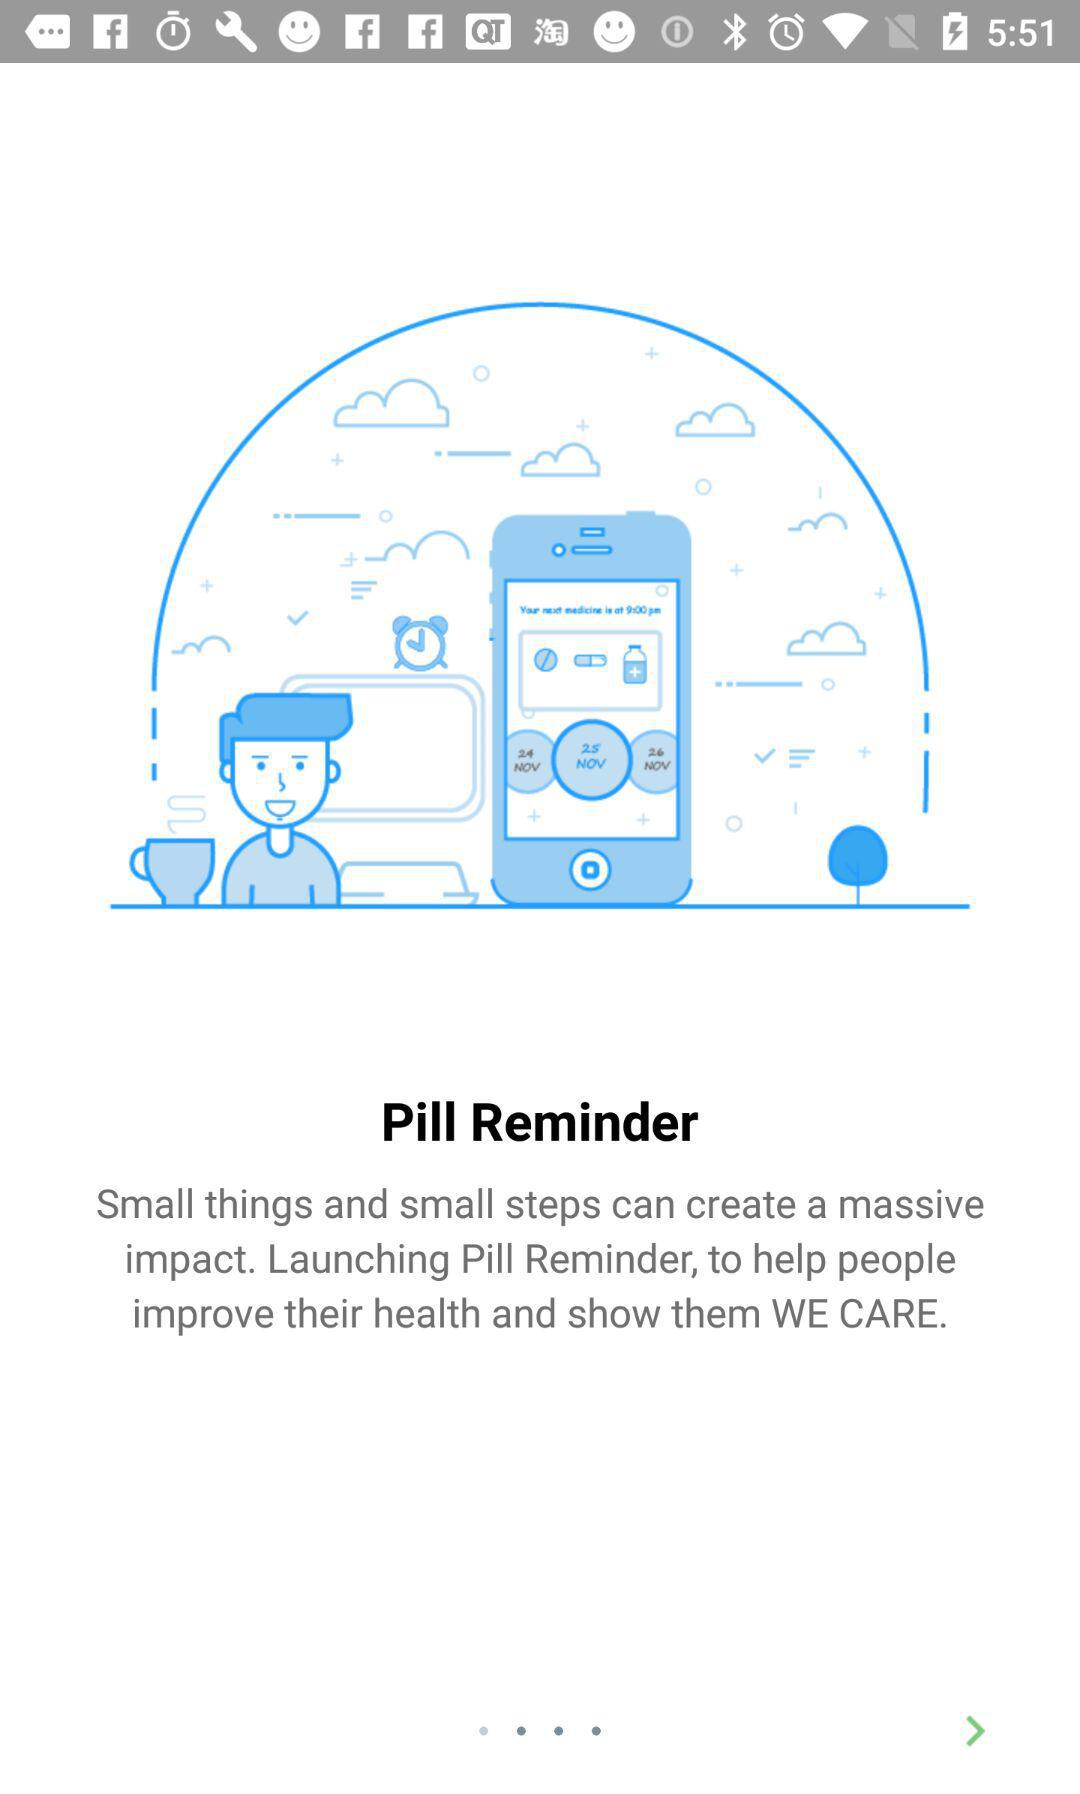Icon: (963, 1715, 986, 1748)
Image: (106, 302, 971, 910)
PageIndicator: (478, 1725, 601, 1738)
Text: (97, 1187, 984, 1337), (384, 1098, 700, 1144)
UpperTaskBar: (1, 1, 1080, 64)
